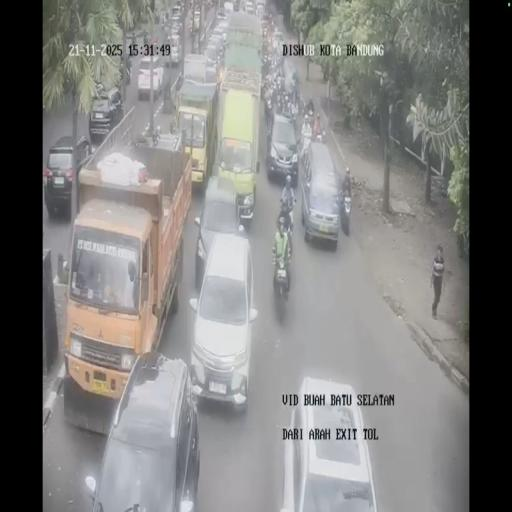car: (89, 355, 199, 510), (278, 375, 381, 510), (193, 172, 247, 280), (301, 140, 343, 246), (43, 134, 93, 218), (266, 110, 298, 186), (89, 84, 124, 140), (138, 55, 164, 99), (203, 44, 222, 78), (168, 34, 181, 66), (211, 25, 227, 50), (215, 6, 229, 24), (273, 28, 284, 50), (260, 10, 272, 28), (171, 13, 181, 33), (125, 32, 133, 56), (255, 0, 265, 16), (243, 0, 254, 14), (174, 0, 183, 15)
motorcycle: (272, 248, 291, 312), (280, 198, 295, 238), (300, 127, 312, 162), (262, 50, 274, 80), (302, 104, 315, 130), (280, 90, 292, 116), (264, 92, 274, 122), (313, 122, 326, 144), (290, 81, 300, 108), (125, 52, 131, 82)
truck: (172, 71, 220, 193), (222, 8, 264, 94), (190, 9, 200, 32)
